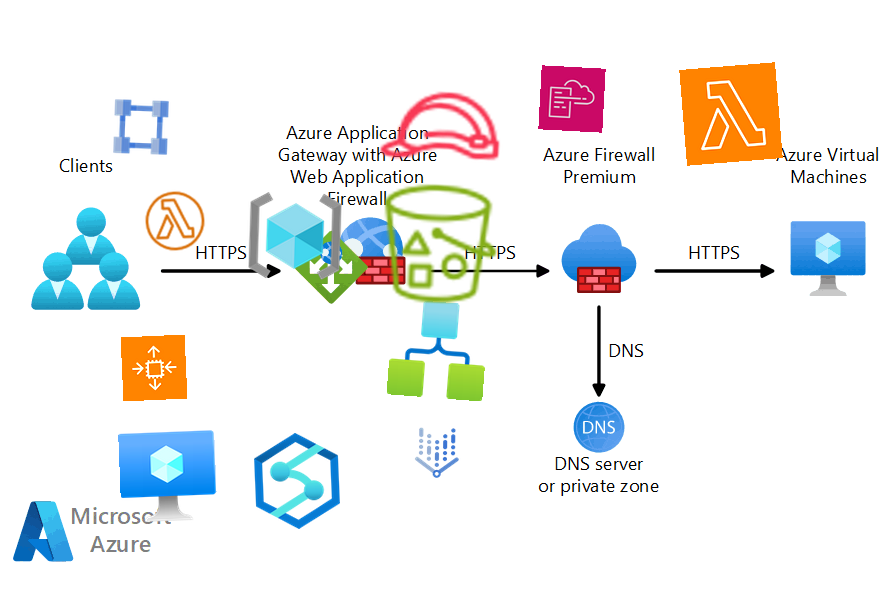aws_amazon_ec2_auto_scaling: (120, 334, 188, 402)
aws_cloudformation: (538, 65, 606, 133)
aws_identity_access_management_role: (373, 59, 509, 195)
aws_lambda: (679, 62, 783, 166)
aws_lambda_lambda_function: (141, 187, 209, 255)
aws_simple_storage_service_bucket_with_objects: (373, 177, 507, 311)
azure_logic_apps: (386, 298, 490, 402)
azure_resource_groups: (245, 186, 345, 286)
azure_synapse_analytics: (247, 431, 347, 531)
azure_virtual_machine: (118, 429, 218, 529)
gcp_vertex_ai: (404, 420, 470, 486)
gcp_virtual_private_cloud: (107, 93, 175, 161)
